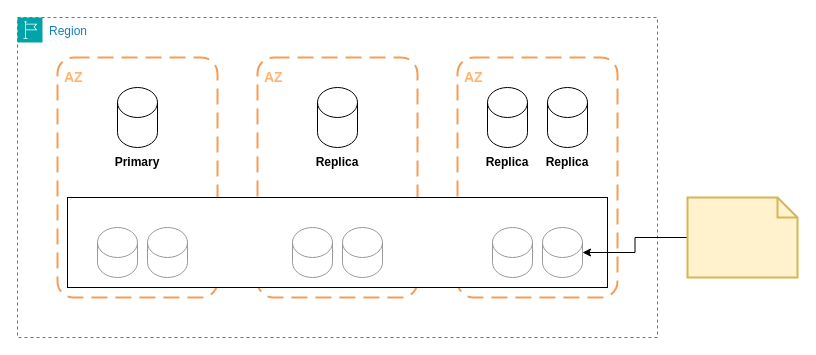
The diagram is 816 pixels wide and 355 high, and some of its shapes have lost their labels. The shapes that lost their labels are listed below. From the top down, each one's box as (x1, y1, x2, y2) in pixels, then its label:
(66, 196, 608, 288): SINGLE LOGICAL VOLUME
(686, 196, 798, 278): These are all copies of the same DB
